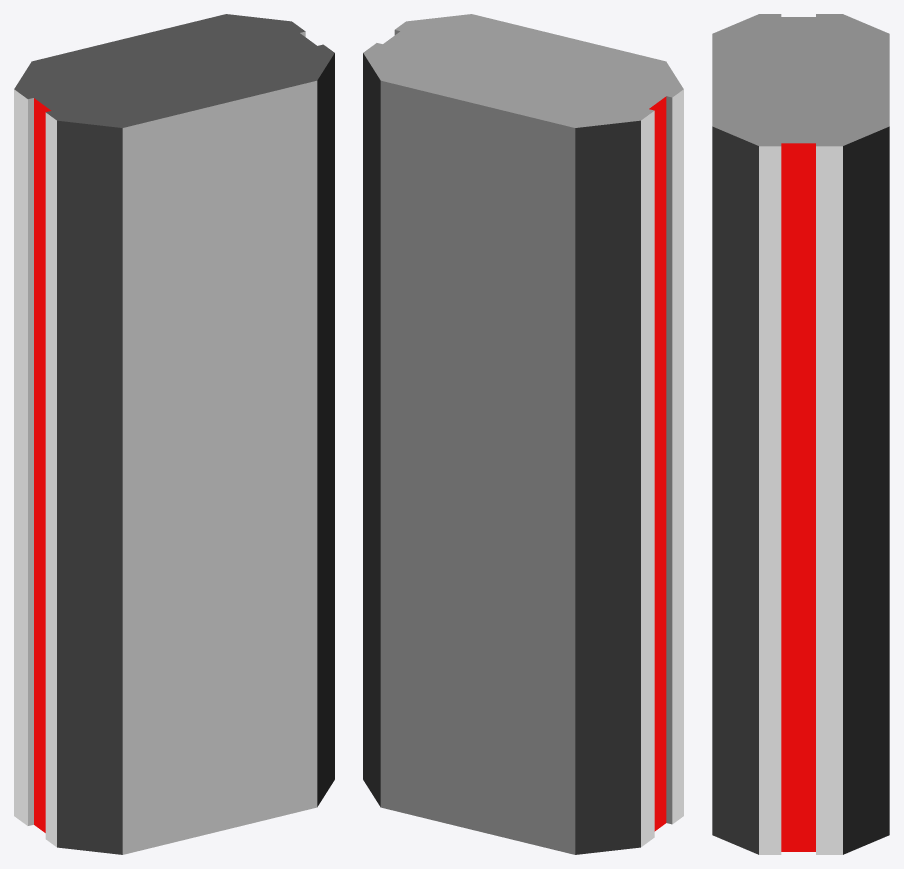
Rendered from standardConnector.obj.
3 views of the same model, side by side, from view 1: azimuth 30°, elevation 25°; view 2: azimuth 150°, elevation 25°; view 3: azimuth 270°, elevation 25° (orthographic). The views are drawn at different scales.
Visible parts, largest first — view 1: Box002; view 2: Box002; view 3: Box002.
Part boxes in pixels (x1,y1,x2,y2): Box002: (14, 14, 334, 854); Box002: (363, 14, 683, 854); Box002: (712, 14, 889, 854).
Bounding box in the file's own units: 0.4 × 1 × 0.227.
